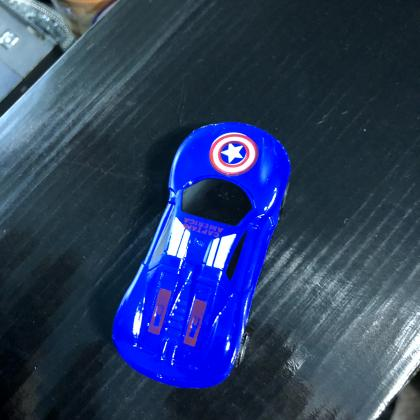Car: (108, 123, 292, 391)
